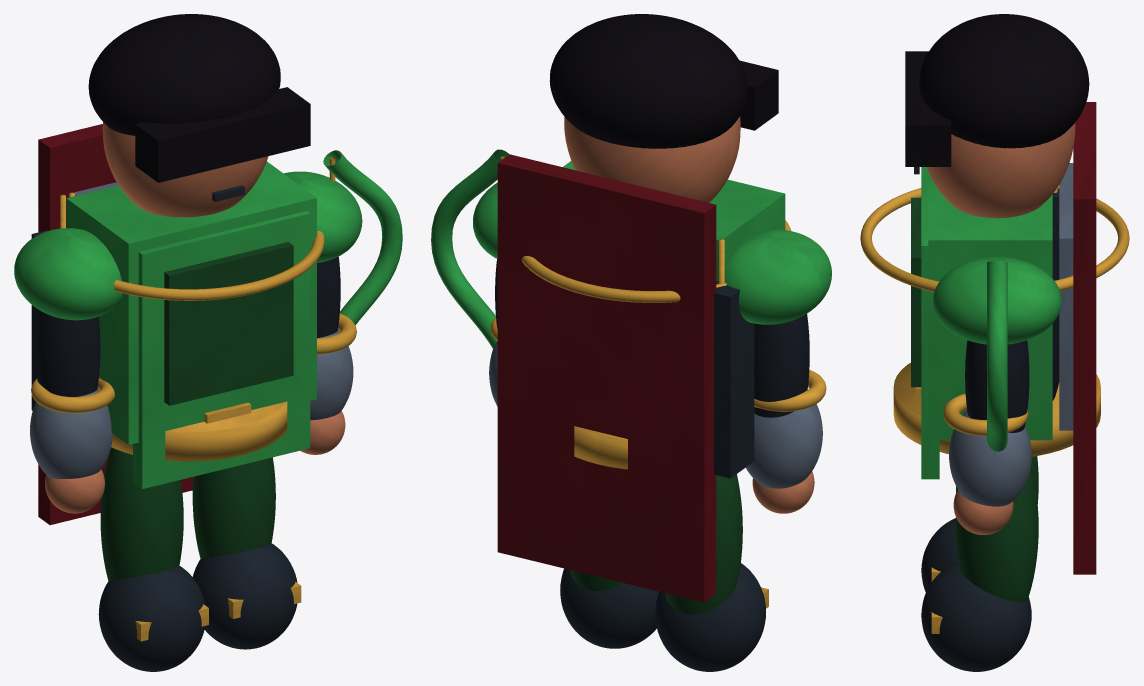
Rendered from Advanced.glb.
3 renders of one model, left to right at view 1: azimuth 30°, elevation 25°; view 2: azimuth 150°, elevation 25°; view 3: azimuth 270°, elevation 25°, orthographic. The views are drawn at different scales.
Parts seen in each view (by area): view 1: ArcherTunic, Hair, LeatherChestGuard, ChestPlate, HairFringe, Boot, Leg, Boot.001, Shoulder, Leg.001, Cape, Head (+12 smaller); view 2: Cape, Hair, Shoulder, Head, Quiver, Boot, Boot.001, Gauntlet, Bow, Arm, ChestPlate, Leg (+7 smaller); view 3: Hair, ChestPlate, Cape, Head, Boot.001, Shoulder.001, Leg.001, Gauntlet.001, Bow, BackArmor, HairFringe, Arm.001 (+8 smaller).
Part boxes in pixels (x1,y1,x2,y2): ArcherTunic: (133, 211, 310, 488); Hair: (88, 14, 280, 135); LeatherChestGuard: (164, 242, 293, 405); ChestPlate: (66, 161, 316, 444); HairFringe: (135, 87, 310, 182); Boot: (98, 566, 205, 671); Leg: (100, 447, 183, 581); Boot.001: (192, 543, 297, 649); Shoulder: (14, 228, 122, 320); Leg.001: (192, 457, 275, 558); Cape: (38, 124, 193, 524); Head: (102, 122, 268, 217); Cape: (497, 154, 716, 602); Hair: (549, 14, 747, 148); Shoulder: (724, 229, 831, 324); Head: (564, 116, 740, 202); Quiver: (714, 281, 754, 478); Boot: (655, 563, 765, 671); Boot.001: (560, 568, 658, 648); Gauntlet: (745, 404, 822, 488); Bow: (431, 149, 509, 348); Arm: (754, 314, 809, 417); ChestPlate: (562, 161, 785, 281); Leg: (665, 474, 742, 614); Hair: (919, 14, 1089, 148); ChestPlate: (928, 171, 1052, 440); Cape: (1073, 102, 1096, 574); Head: (927, 123, 1075, 218); Boot.001: (921, 562, 1031, 671); Shoulder.001: (933, 257, 1061, 344); Leg.001: (956, 467, 1038, 602); Gauntlet.001: (949, 410, 1031, 506); Bow: (987, 261, 1007, 451); BackArmor: (1059, 163, 1073, 430); HairFringe: (905, 51, 951, 166); Arm.001: (965, 340, 1029, 432).
Size of the model in its own units: 1.88 by 2.96 by 1.17.
Materials: 11 (9 with a texture image).
